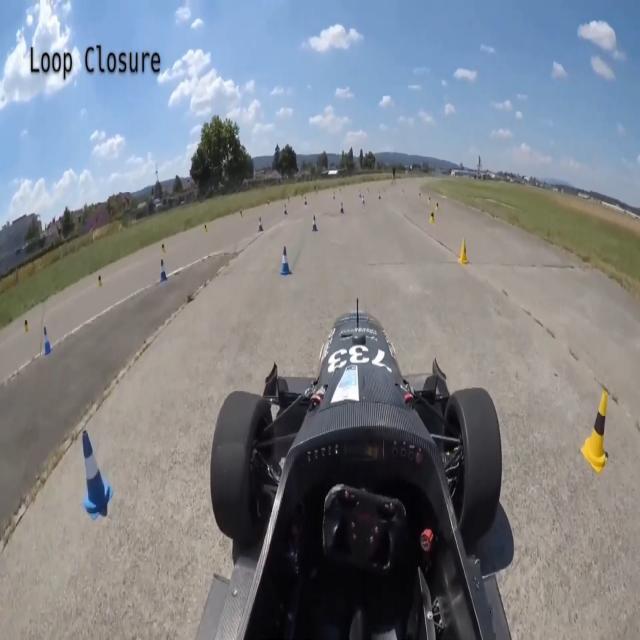blue_cone: (79, 429, 115, 521), (279, 245, 293, 276), (42, 326, 54, 358), (160, 259, 168, 283), (311, 214, 318, 232), (257, 215, 264, 233)
yellow_cone: (578, 387, 612, 476), (458, 237, 470, 265), (429, 208, 435, 224)
